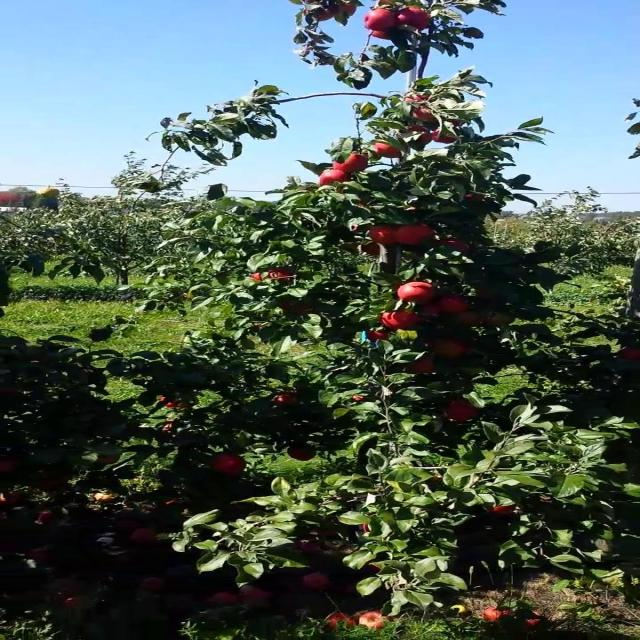apple: (397, 224, 436, 246), (397, 8, 434, 31), (397, 284, 439, 304), (447, 400, 482, 423), (212, 456, 249, 477), (383, 312, 421, 331), (433, 340, 469, 360), (255, 268, 297, 285), (362, 12, 398, 30), (404, 356, 437, 375), (404, 124, 432, 144), (440, 296, 469, 315), (291, 444, 320, 463), (319, 172, 354, 187), (369, 228, 398, 246), (340, 156, 370, 173), (284, 300, 315, 316), (262, 272, 297, 286), (333, 156, 363, 172), (404, 128, 432, 145), (163, 396, 194, 411), (376, 144, 404, 160), (333, 160, 370, 172), (412, 108, 439, 123), (276, 392, 302, 407), (440, 240, 469, 253), (348, 156, 370, 172), (419, 304, 443, 318), (490, 504, 517, 516), (461, 312, 484, 326), (333, 4, 357, 17), (312, 8, 334, 22), (433, 132, 457, 144), (362, 244, 386, 256), (461, 192, 487, 203), (404, 124, 430, 135), (369, 332, 393, 343), (490, 316, 514, 327), (404, 96, 432, 105), (163, 420, 178, 434), (99, 456, 121, 465), (369, 32, 393, 40), (348, 396, 372, 404), (625, 348, 639, 361), (6, 460, 20, 472), (476, 288, 492, 297), (447, 120, 464, 128), (362, 524, 372, 533), (355, 224, 364, 232)
